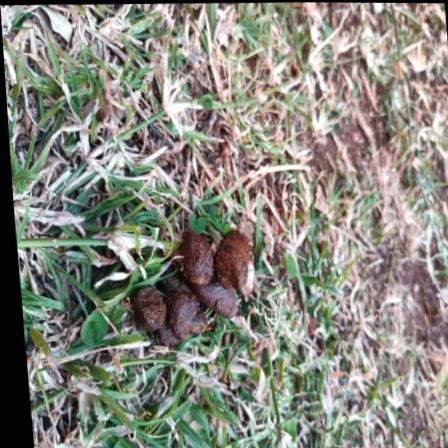dog-poop: (127, 227, 260, 349)
